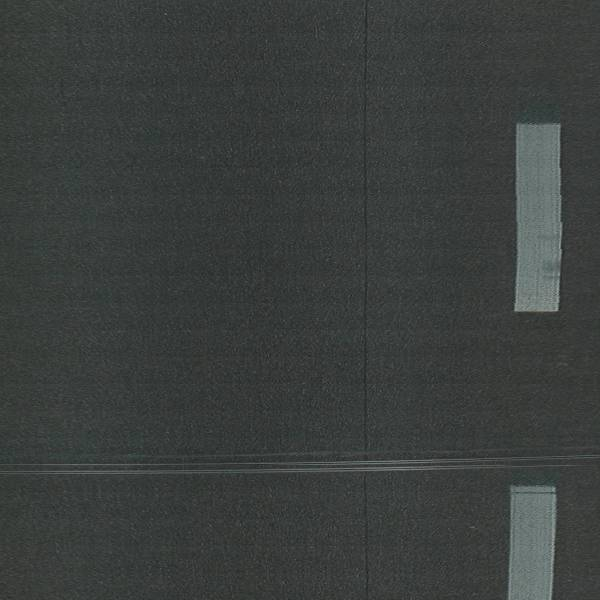road_damage: (13, 444, 600, 468)
